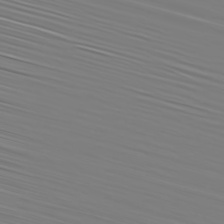cavities: (68, 83, 138, 136)
